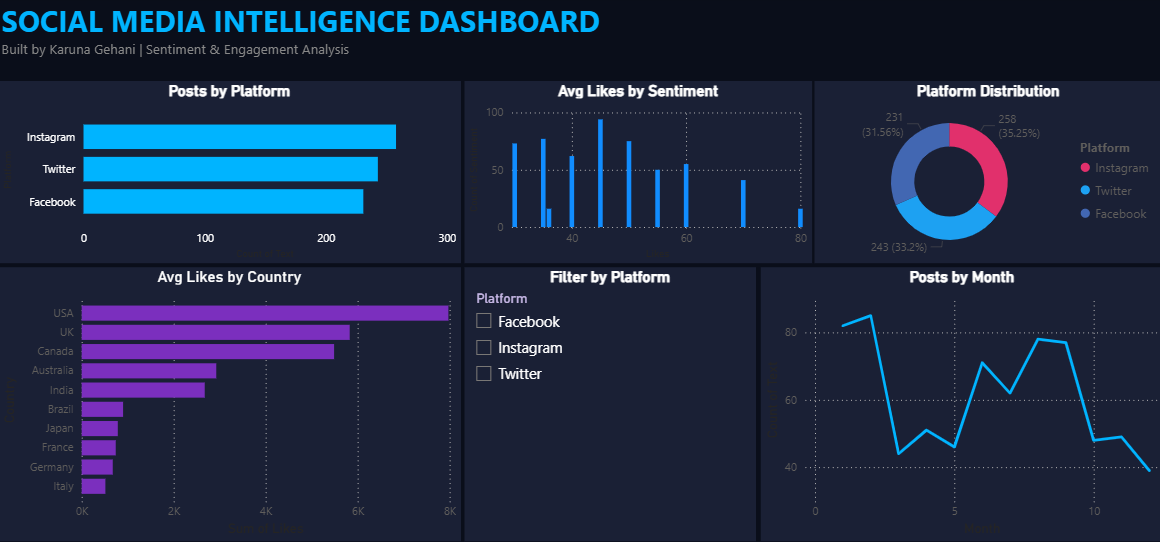

The dashboard page shown, as its layout file describes it:
{"tool":"powerbi","page":{"name":"Page 1","canvas":[1280,720],"ordinal":0},"visuals":[{"type":"textbox","box":[0,0,1280.3,93.3],"z":0},{"type":"clusteredBarChart","title":"Posts by Platform","fields":{"Category":["sentimentdataset.Platform"],"Y":["CountNonNull(sentimentdataset.Text)"]},"box":[1.4,93.3,507.7,200.3],"z":1000},{"type":"donutChart","title":"Platform Distribution","fields":{"Y":["CountNonNull(sentimentdataset.Text)"],"Category":["sentimentdataset.Platform"]},"box":[897.4,93.3,381.5,200.3],"z":2000},{"type":"columnChart","title":" Avg Likes by Sentiment","fields":{"Y":["CountNonNull(sentimentdataset.Sentiment)"],"Category":["sentimentdataset.Likes"]},"box":[513.2,93.3,381.5,200.3],"z":3000},{"type":"lineChart","title":" Posts by Month","fields":{"Category":["sentimentdataset.Month"],"Y":["CountNonNull(sentimentdataset.Text)"]},"box":[838.1,297.8,441.9,300.5],"z":5000},{"type":"slicer","title":"Filter by Platform","fields":{"Values":["sentimentdataset.Platform"]},"box":[513.2,297.8,320,300.5],"z":6000},{"type":"barChart","title":"Avg Likes by Country","fields":{"Y":["Sum(sentimentdataset.Likes)"],"Category":["sentimentdataset.Country"]},"box":[1.4,297.8,507.7,300.5],"z":6001}]}

Visuals, with their boxes on the page's 1280x720 design canvas (x1, y1, x2, y2). These are canvas units, not pixel positions in the 1160x542 screenshot, which may show the page scaled, cropped or inside an application window:
textbox: bbox=[0, 0, 1280, 93]
"Posts by Platform" clusteredBarChart: bbox=[1, 93, 509, 294]
"Platform Distribution" donutChart: bbox=[897, 93, 1279, 294]
" Avg Likes by Sentiment" columnChart: bbox=[513, 93, 895, 294]
" Posts by Month" lineChart: bbox=[838, 298, 1280, 598]
"Filter by Platform" slicer: bbox=[513, 298, 833, 598]
"Avg Likes by Country" barChart: bbox=[1, 298, 509, 598]
